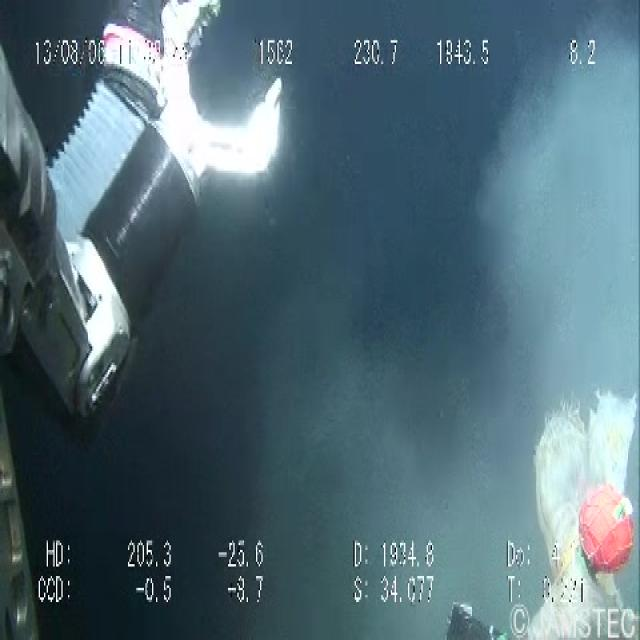plastic: (506, 372, 638, 638)
